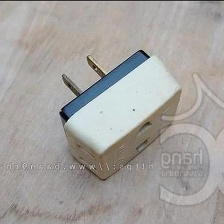three_eye_plug: (55, 42, 184, 181)
